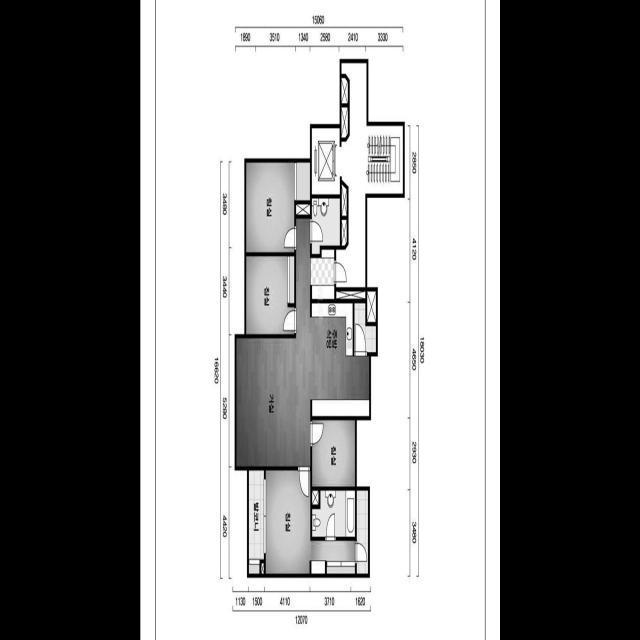background: (140, 0, 500, 640)
space_balconi: (249, 470, 264, 574), (354, 303, 376, 352), (356, 490, 368, 574)
space_bedroom: (265, 471, 355, 574), (246, 162, 310, 252), (246, 256, 294, 334), (312, 420, 355, 487)
space_elevator: (312, 128, 339, 194)
space_elevator_hall: (336, 63, 366, 287)
space_front: (310, 249, 334, 299)
space_kitchen: (312, 303, 369, 416)
space_living_room: (236, 219, 310, 466)
space_other: (336, 291, 376, 322), (341, 78, 348, 138), (341, 184, 346, 246), (296, 204, 310, 215), (312, 491, 318, 504), (261, 563, 264, 574)
space_staircase: (366, 126, 402, 194)
space_toilet: (312, 491, 355, 537), (311, 199, 340, 254)
